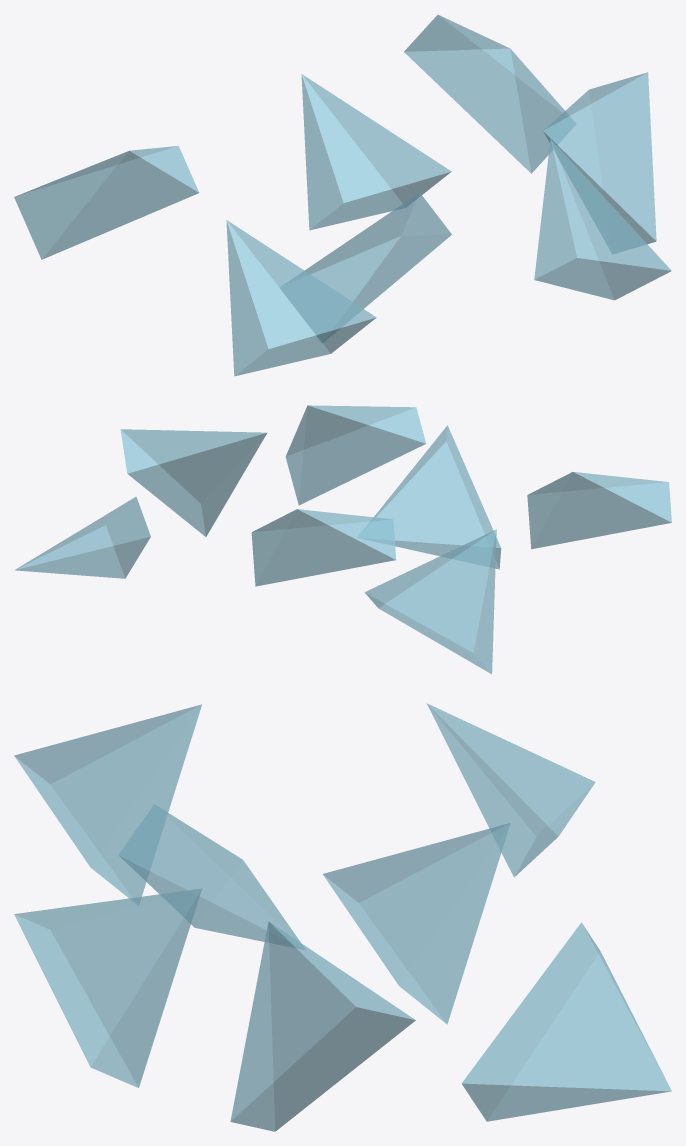
The model's file is glass_shards.glb.
The picture shows the model from 3 angles, top to bottom: view 1: azimuth 30°, elevation 25°; view 2: azimuth 150°, elevation 25°; view 3: azimuth 270°, elevation 25°; orthographic projection. The views are drawn at different scales.
Visible parts, largest first — view 1: Cube.001; view 2: Cube.001; view 3: Cube.001.
Part boxes in pixels (x1,y1,x2,y2): Cube.001: [14, 14, 671, 376]; Cube.001: [14, 405, 671, 674]; Cube.001: [14, 703, 671, 1131].
Size of the model in its own units: 0.3376 by 0.0956 by 0.3001.
